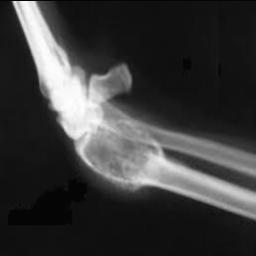cancer: (74, 115, 169, 188)
